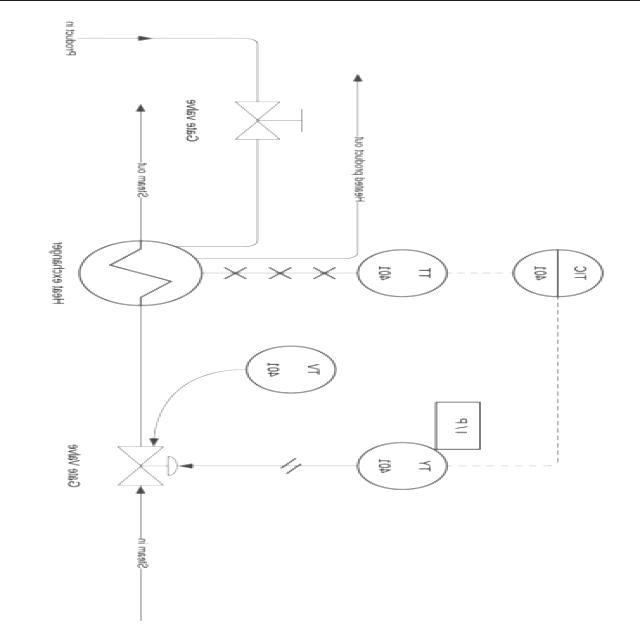Hand Operated Gate Valve: (232, 94, 310, 152)
Pneumatic-Diaphragm Gate Valve: (109, 444, 184, 493)
